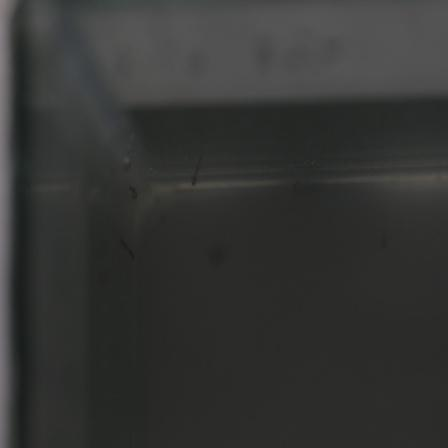Jentik-Nyamuk: (184, 148, 211, 189)
